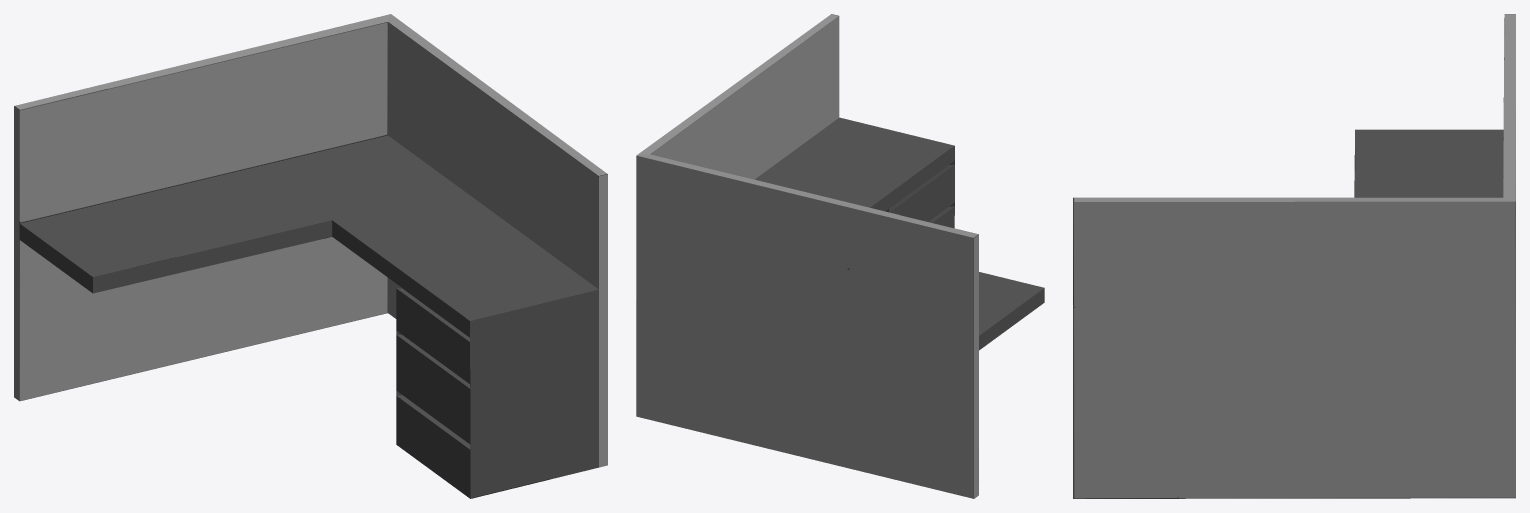
File: CubicleModel.fbx
The picture shows the model from 3 angles, left to right: view 1: azimuth 30°, elevation 25°; view 2: azimuth 150°, elevation 25°; view 3: azimuth 270°, elevation 25°; orthographic projection. The views are drawn at different scales.
Visible parts, largest first — view 1: Cube; view 2: Cube; view 3: Cube.
Part boxes in pixels (bbox=[...]): Cube: bbox=[14, 14, 607, 498]; Cube: bbox=[636, 14, 1044, 498]; Cube: bbox=[1073, 14, 1515, 498].
Size of the model in its own units: 205 by 152 by 205.
